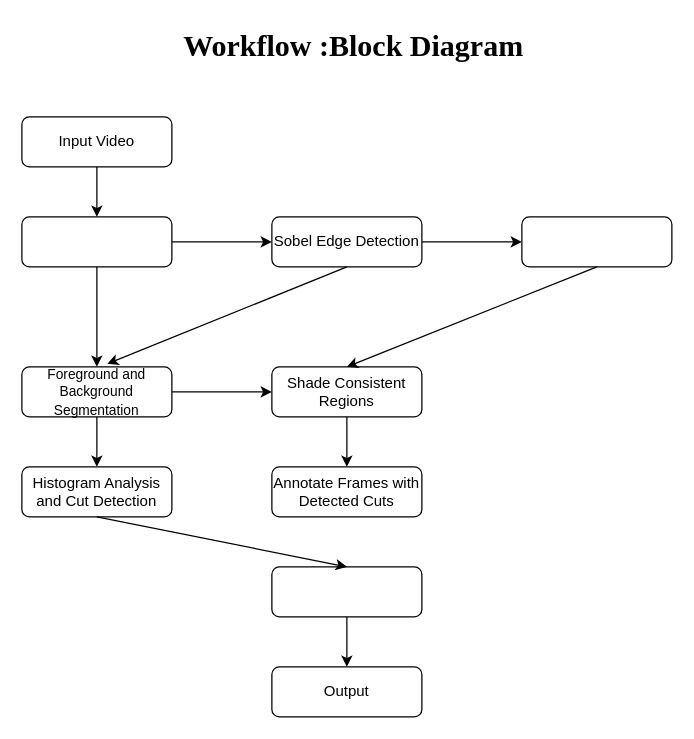
The diagram is 694 pixels wide and 739 high, and some of its shapes have lost their labels. Each missing label, with the centre of its shape:
"Display Summary" goes at [346,591].
"Extract Frames" goes at [96,241].
"Track Objects" goes at [596,241].
